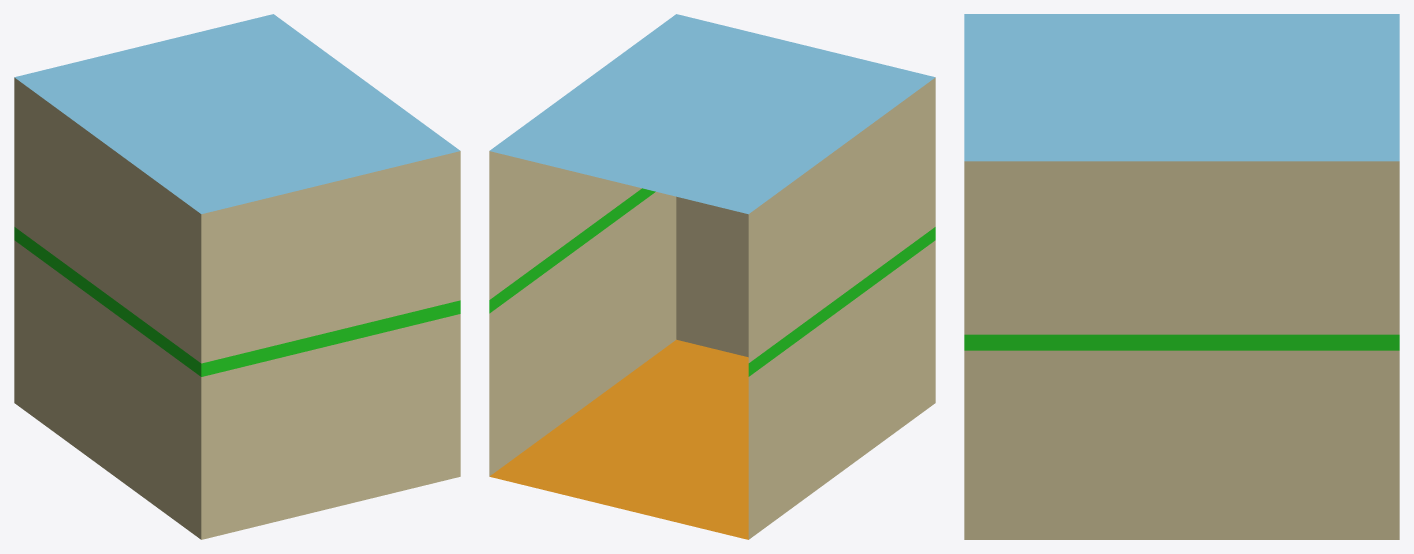
The picture shows the model from 3 angles, left to right: view 1: azimuth 30°, elevation 25°; view 2: azimuth 150°, elevation 25°; view 3: azimuth 270°, elevation 25°; orthographic projection. The views are drawn at different scales.
Parts seen in each view (by area): view 1: Deadend; view 2: Deadend; view 3: Deadend.
Boxes of the visible parts, x1,y1,x2,y2 form: Deadend: [14, 14, 460, 539]; Deadend: [489, 14, 935, 539]; Deadend: [964, 14, 1399, 539].
Bounding box in the file's own units: 200 × 240 × 250.
